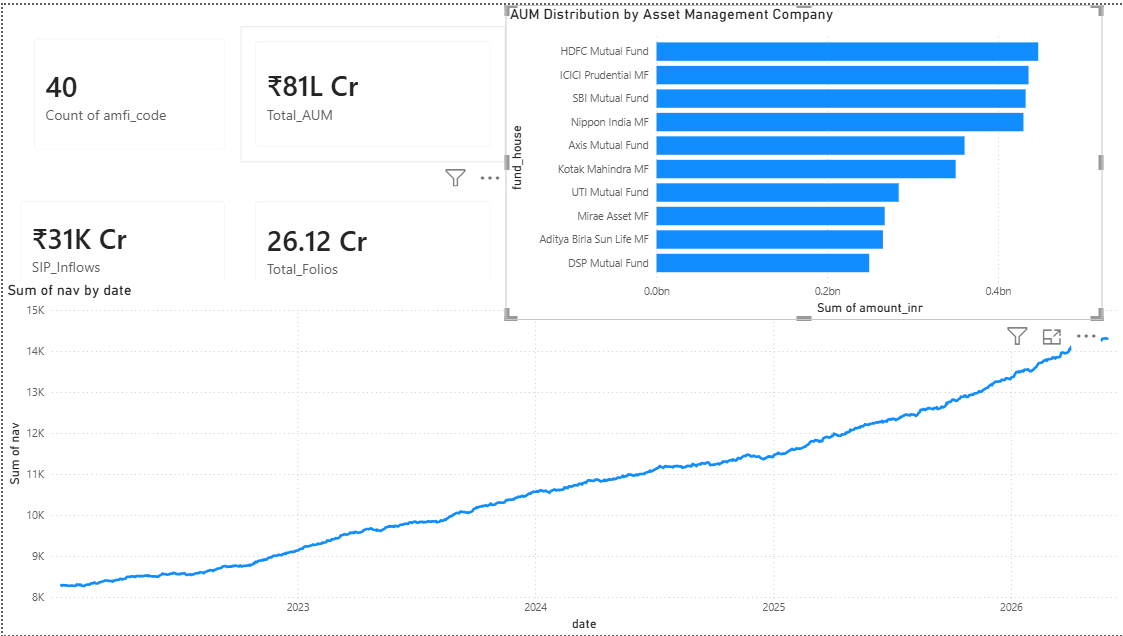

The page's visual inventory and layout, read from the dashboard file:
{"tool":"powerbi","page":{"name":"Industry Overview","canvas":[1280,720],"ordinal":0},"visuals":[{"type":"cardVisual","fields":{"Data":["Count(dim_fund.amfi_code)"]},"box":[19.2,22,252.5,161.9],"z":0},{"type":"cardVisual","fields":{"Data":["alpha_beta.Total_AUM"]},"box":[271.7,24.7,303.3,155.1],"z":1000},{"type":"cardVisual","fields":{"Data":["alpha_beta.SIP_Inflows"]},"box":[2.7,207.2,269,137.2],"z":2000},{"type":"cardVisual","fields":{"Data":["alpha_beta.Total_Folios"]},"box":[271.7,207.2,303.3,142.7],"z":3000},{"type":"lineChart","fields":{"Category":["fact_nav.date"],"Y":["Sum(fact_nav.nav)"]},"box":[0,315.6,1280.3,404.8],"z":4000},{"type":"clusteredBarChart","title":"AUM Distribution by Asset Management Company","fields":{"Category":["dim_fund.fund_house"],"Y":["Sum(fact_transactions.amount_inr)"]},"box":[575,0,680.6,359.5],"z":5000}]}

Visuals, with their boxes in screenshot pixels (x1, y1, x2, y2), scaled from the page's 1280x720 canvas onto the 1123x636 screenshot:
cardVisual - Count(dim_fund.amfi_code): select_region(17, 19, 238, 162)
cardVisual - alpha_beta.Total_AUM: select_region(238, 22, 504, 159)
cardVisual - alpha_beta.SIP_Inflows: select_region(2, 183, 238, 304)
cardVisual - alpha_beta.Total_Folios: select_region(238, 183, 504, 309)
lineChart - fact_nav.date x Sum(fact_nav.nav): select_region(0, 279, 1122, 635)
"AUM Distribution by Asset Management Company" clusteredBarChart: select_region(504, 0, 1102, 318)
